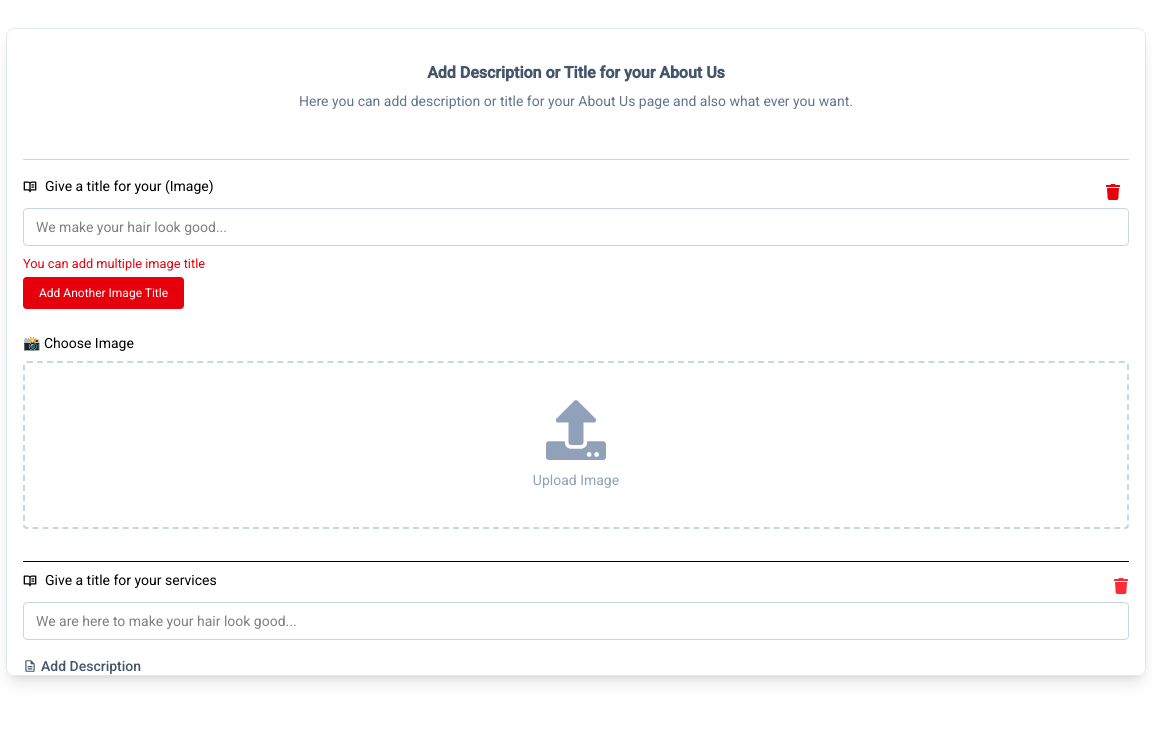
can add and remove extra sections
This screenshot has width=1152, height=732.
Click the button "Add Another Image Title". click: (104, 293)
box: [23,277,184,309]
(page scrolled)
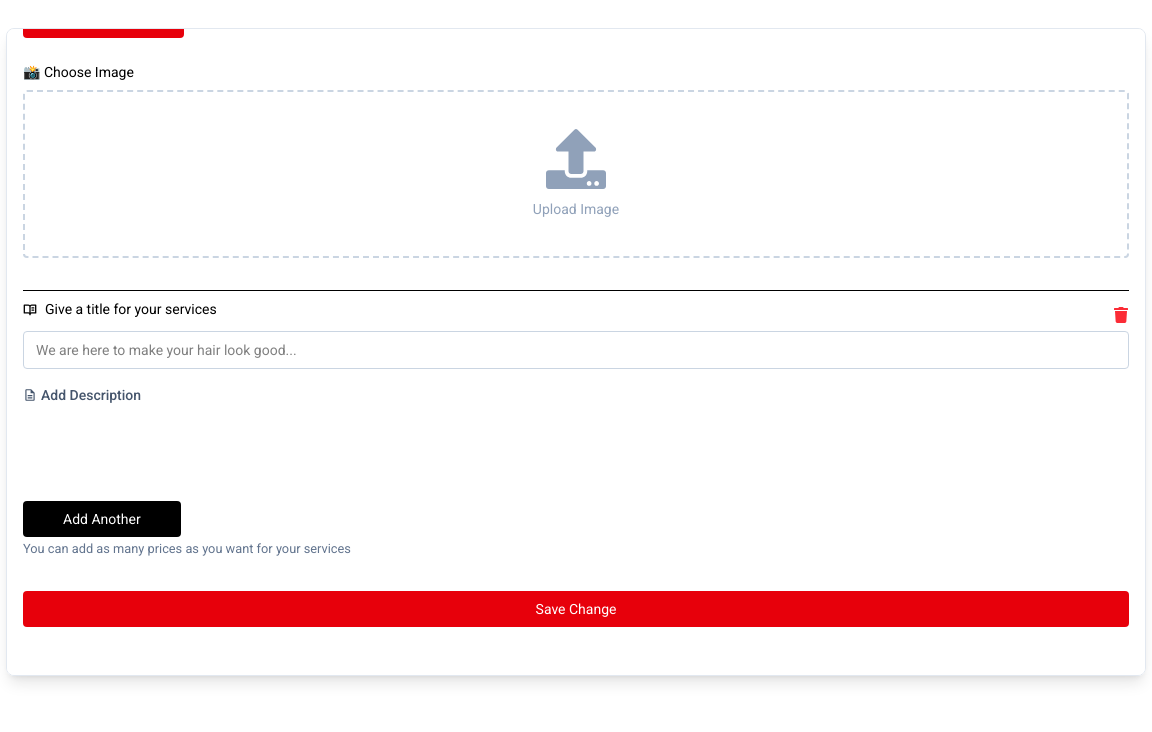
Click the button with test id "add-service-button". click: (102, 519)
box: [23,501,181,537]
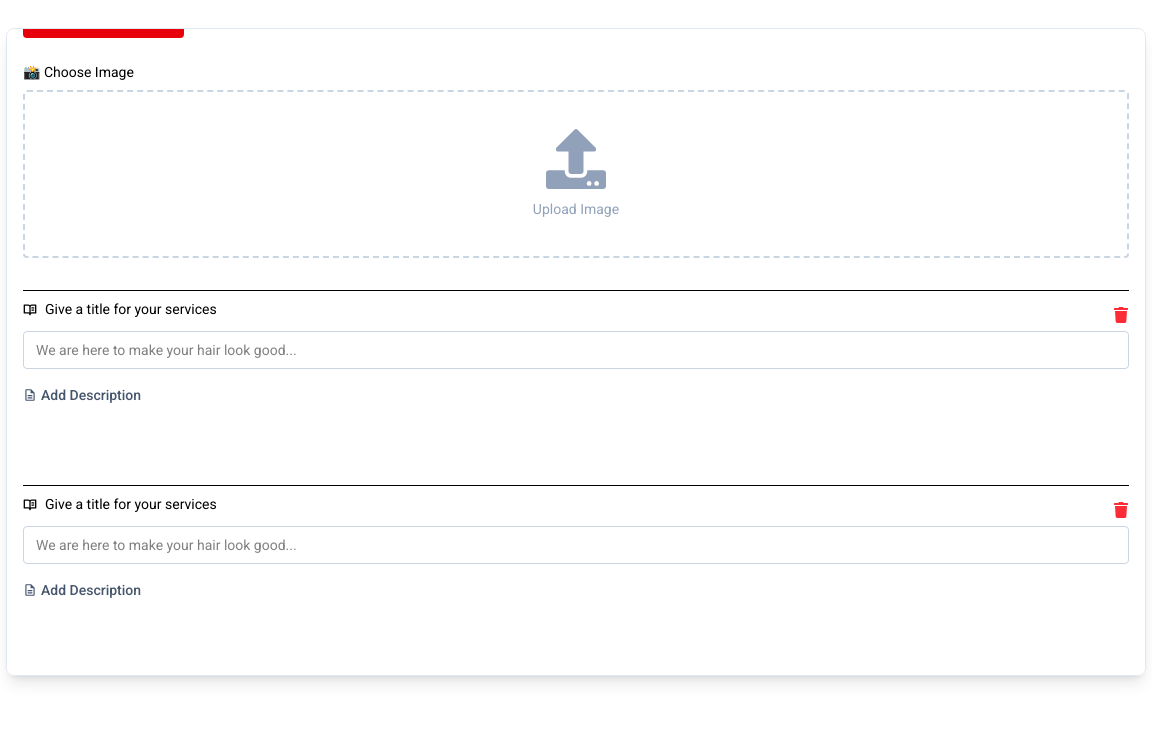
Result: the number of fields with placeholder "We are here to make your hair look good..." is 2 at [23,331,1129,369]; [23,526,1129,564]
